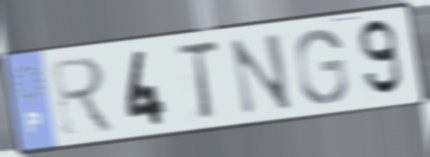4: (124, 47, 169, 129)
9: (355, 18, 406, 101)
G: (292, 26, 351, 106)
N: (227, 30, 296, 119)
R: (47, 53, 120, 138)
T: (171, 38, 223, 124)
